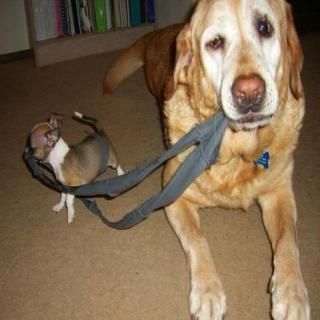dog: (180, 0, 312, 147)
nose: (225, 72, 270, 116)
